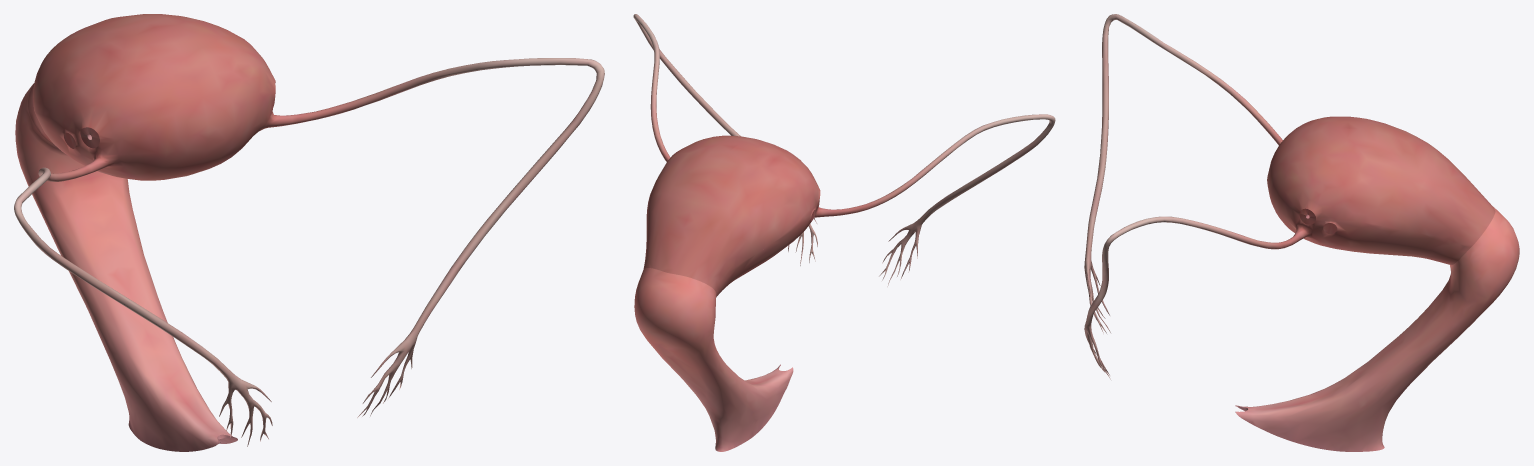
The model's file is cervix_cancer.glb.
The picture shows the model from 3 angles, left to right: view 1: azimuth 30°, elevation 25°; view 2: azimuth 150°, elevation 25°; view 3: azimuth 270°, elevation 25°; orthographic projection. The views are drawn at different scales.
Parts seen in each view (by area): view 1: Myometrium (Right; Posterior) [S05040], Anterior Wall of Vagina (Right) [S05056], Myometrium (Left; Posterior) [S05038], Round Ligament of Uterus (Left) [S05042], Anterior Wall of Vagina (Left) [S05053], Myometrium (Right; Anterior) [S05039], Round Ligament of Uterus (Right) [S05043], Myometrium (Left; Anterior) [S05041], Posterior Wall of Vagina (Right) [S05049]; view 2: Myometrium (Right; Posterior) [S05040], Posterior Wall of Vagina (Right) [S05049], Myometrium (Left; Posterior) [S05038], Round Ligament of Uterus (Right) [S05043], Posterior Wall of Vagina (Left) [S05055], Anterior Wall of Vagina (Right) [S05056], Round Ligament of Uterus (Left) [S05042], Myometrium (Right; Anterior) [S05039]; view 3: Myometrium (Left; Posterior) [S05038], Anterior Wall of Vagina (Left) [S05053], Posterior Wall of Vagina (Left) [S05055], Myometrium (Left; Anterior) [S05041], Round Ligament of Uterus (Right) [S05043], Round Ligament of Uterus (Left) [S05042], Myometrium (Right; Posterior) [S05040], Anterior Wall of Vagina (Right) [S05056].
Part boxes in pixels (x1,y1,x2,y2): Myometrium (Right; Posterior) [S05040]: [28, 16, 208, 139]; Anterior Wall of Vagina (Right) [S05056]: [17, 114, 220, 451]; Myometrium (Left; Posterior) [S05038]: [120, 14, 275, 131]; Round Ligament of Uterus (Left) [S05042]: [268, 58, 604, 417]; Anterior Wall of Vagina (Left) [S05053]: [90, 171, 237, 443]; Myometrium (Right; Anterior) [S05039]: [29, 111, 208, 180]; Round Ligament of Uterus (Right) [S05043]: [14, 158, 272, 446]; Myometrium (Left; Anterior) [S05041]: [192, 95, 275, 174]; Posterior Wall of Vagina (Right) [S05049]: [15, 83, 140, 440]; Myometrium (Right; Posterior) [S05040]: [667, 139, 820, 289]; Posterior Wall of Vagina (Right) [S05049]: [656, 273, 754, 451]; Myometrium (Left; Posterior) [S05038]: [643, 135, 754, 272]; Round Ligament of Uterus (Right) [S05043]: [815, 114, 1055, 286]; Posterior Wall of Vagina (Left) [S05055]: [634, 268, 719, 451]; Anterior Wall of Vagina (Right) [S05056]: [711, 290, 793, 437]; Round Ligament of Uterus (Left) [S05042]: [633, 14, 817, 265]; Myometrium (Right; Anterior) [S05039]: [715, 199, 819, 297]; Myometrium (Left; Posterior) [S05038]: [1267, 128, 1495, 248]; Anterior Wall of Vagina (Left) [S05053]: [1235, 249, 1482, 451]; Posterior Wall of Vagina (Left) [S05055]: [1340, 212, 1519, 451]; Myometrium (Left; Anterior) [S05041]: [1267, 183, 1468, 265]; Round Ligament of Uterus (Right) [S05043]: [1084, 14, 1282, 333]; Round Ligament of Uterus (Left) [S05042]: [1084, 216, 1307, 379]; Myometrium (Right; Posterior) [S05040]: [1267, 116, 1495, 211]; Anterior Wall of Vagina (Right) [S05056]: [1235, 273, 1451, 411].
Bounding box in the file's own units: 5.36 × 3.62 × 4.4.
